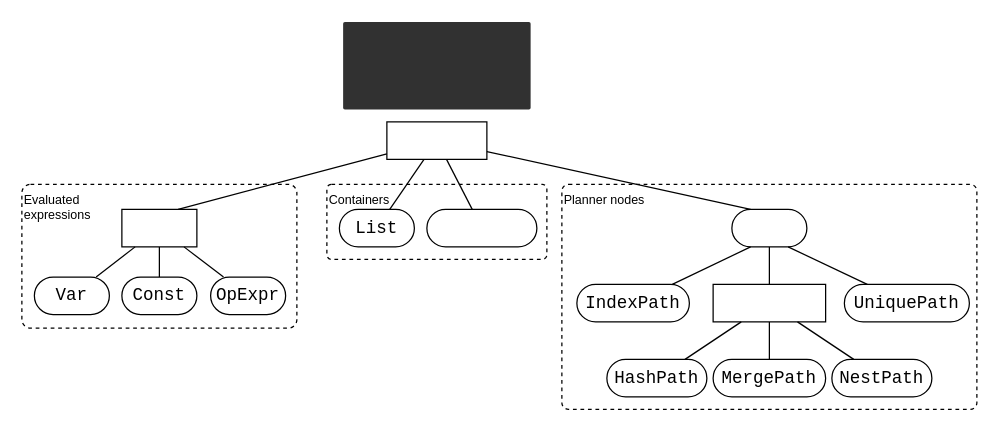
The diagram is 999 pixels wide and 431 high, and some of its shapes have lost their labels. Each missing label, with the centre of its shape:
Bitmapset: pixel 481 227
Expr: pixel 159 227
JoinPath: pixel 769 302
Node: pixel 436 140
Path: pixel 769 227
struct Node { NodeTag type ; }: pixel 436 65
